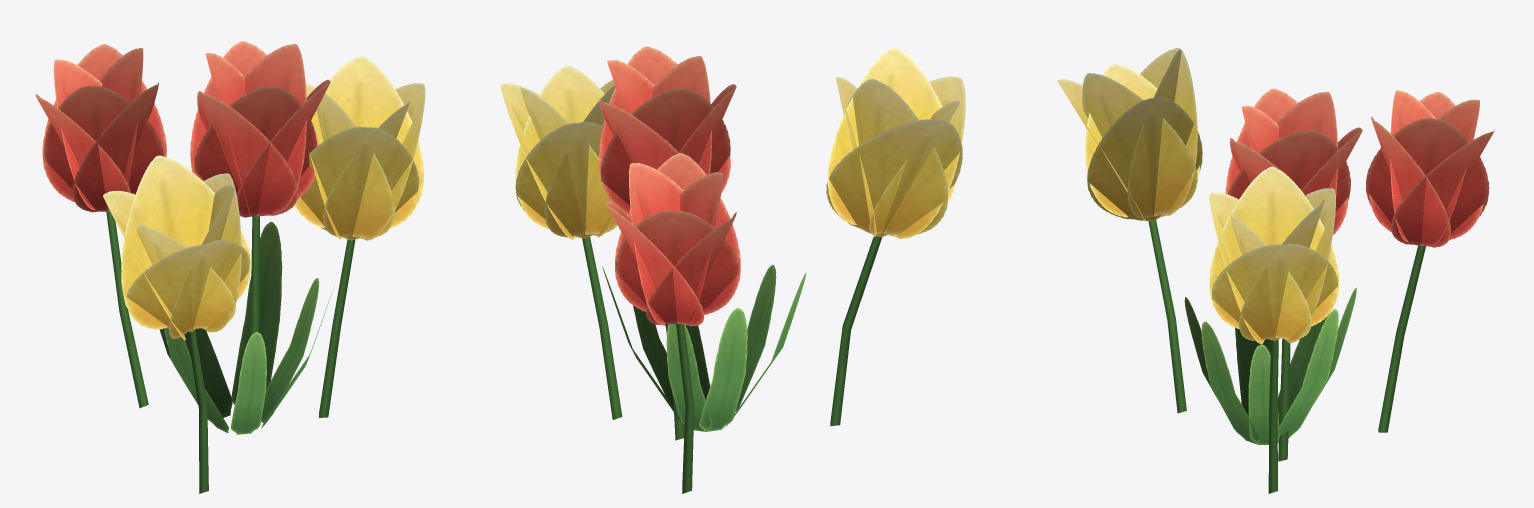
The model's file is flower-tulip.glb.
3 views of the same model, side by side, from view 1: azimuth 30°, elevation 25°; view 2: azimuth 150°, elevation 25°; view 3: azimuth 270°, elevation 25° (orthographic). The views are drawn at different scales.
Parts seen in each view (by area): view 1: Flower; view 2: Flower; view 3: Flower.
Boxes of the visible parts, x1=… form: Flower: x1=35, y1=41, x2=425, y2=493; Flower: x1=500, y1=46, x2=965, y2=493; Flower: x1=1057, y1=48, x2=1495, y2=493.
Size of the model in its own units: 0.6863 by 0.5897 by 0.6846.
1 material, 1 textured.
